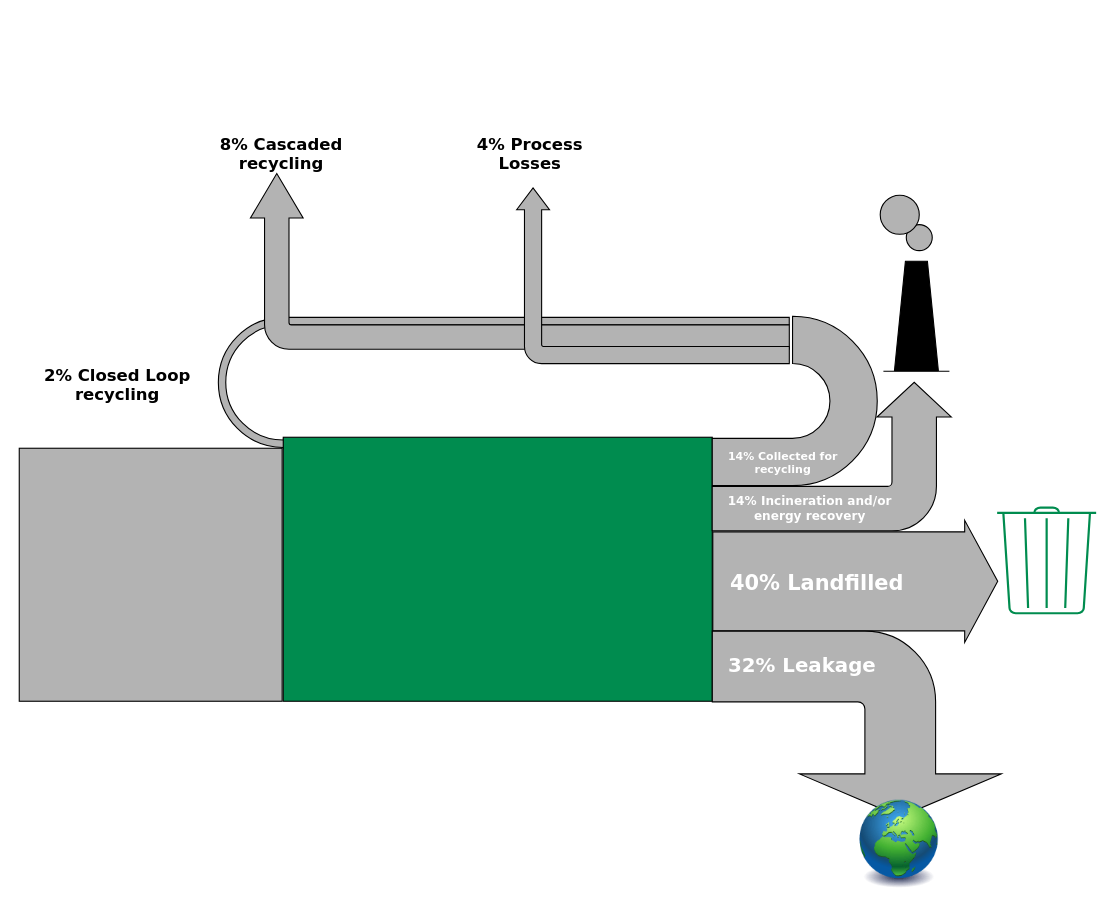
Image size: 1117x906. Some labels were removed from this diagram. The shapes that lost their labels are listed below. From the top down, each one's box as (x1, y1, x2, y2) in pixels, then its label:
(18, 447, 282, 701): 98% Virgin Feedstock
(282, 436, 712, 701): 78 Million Tonnes (Annual Production)
